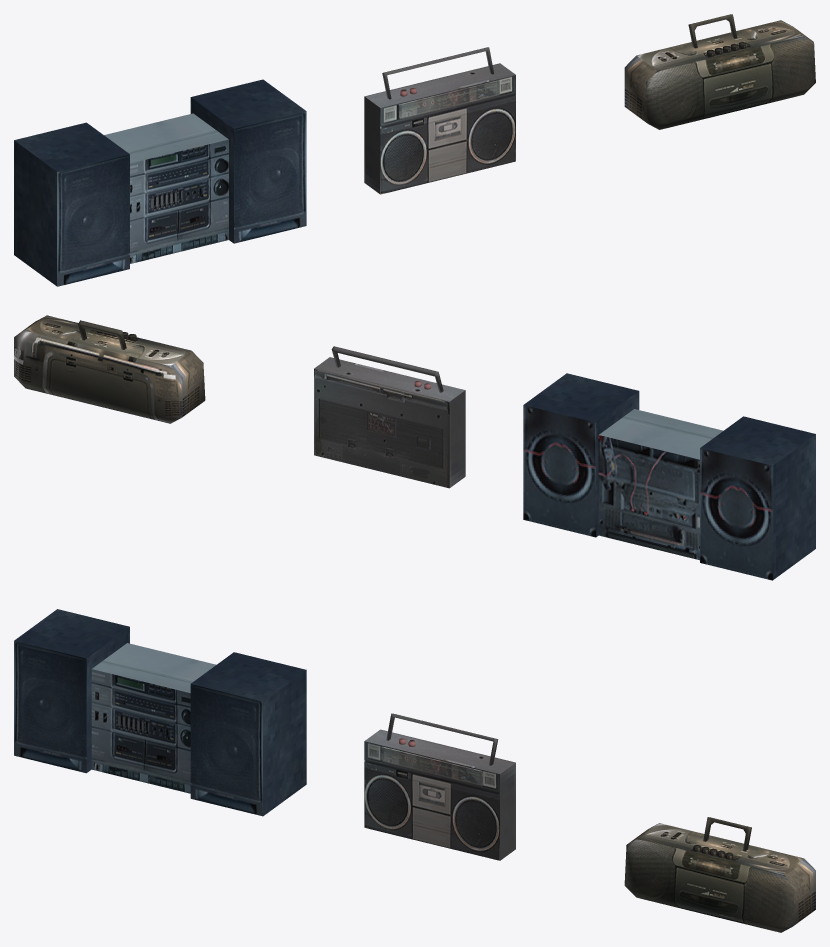
File: psx_radios.glb
3 views of the same model, one above another, from view 1: azimuth 30°, elevation 25°; view 2: azimuth 150°, elevation 25°; view 3: azimuth 330°, elevation 25° (orthographic).
Visible parts, largest first — view 1: SM_Radio_01, SM_Radio_02, SM_Radio_03; view 2: SM_Radio_01, SM_Radio_02, SM_Radio_03; view 3: SM_Radio_01, SM_Radio_02, SM_Radio_03.
Boxes of the visible parts, left/top/right/bottom form: SM_Radio_01: left=14, top=79, right=306, bottom=286; SM_Radio_02: left=364, top=47, right=515, bottom=194; SM_Radio_03: left=624, top=14, right=815, bottom=129; SM_Radio_01: left=523, top=373, right=815, bottom=580; SM_Radio_02: left=314, top=346, right=465, bottom=488; SM_Radio_03: left=14, top=315, right=205, bottom=423; SM_Radio_01: left=14, top=609, right=306, bottom=816; SM_Radio_02: left=364, top=713, right=515, bottom=860; SM_Radio_03: left=624, top=817, right=815, bottom=932.
Size of the model in its own units: 2.75 by 0.3919 by 0.2684.
Materials: 3 (3 with a texture image).
